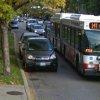Bus: (46, 6, 100, 76)
